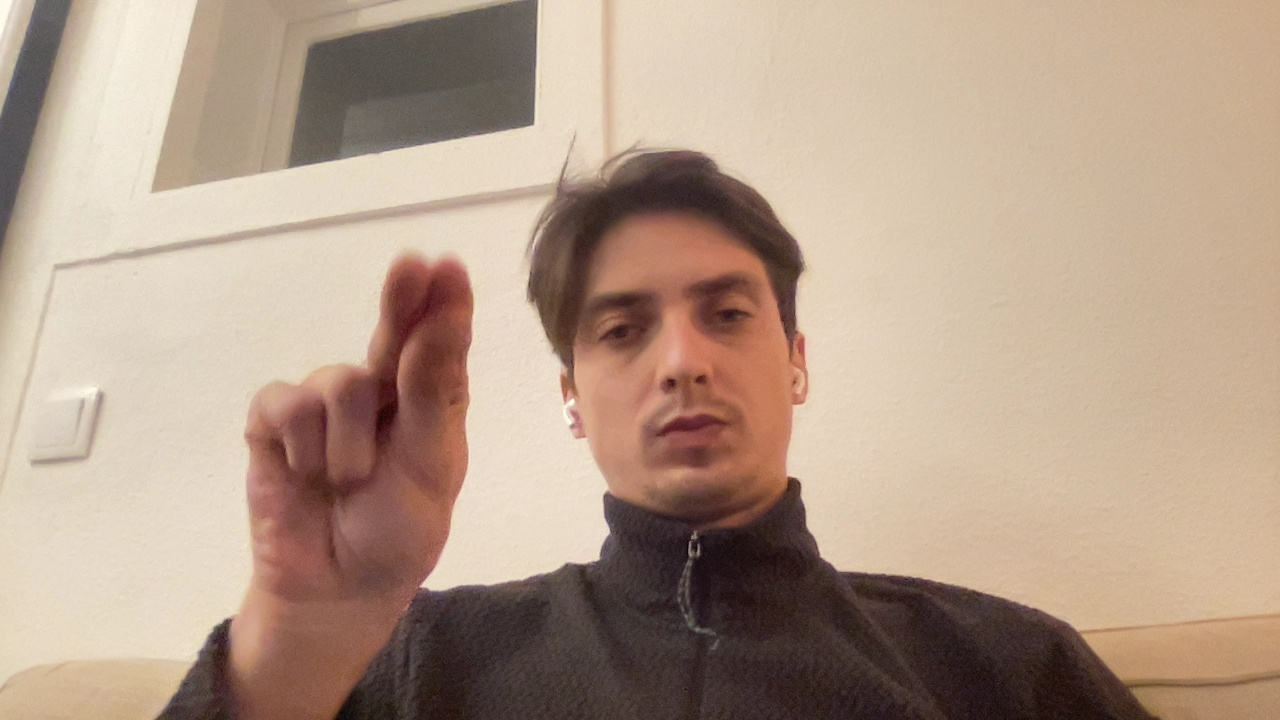no: (197, 180, 521, 636)
